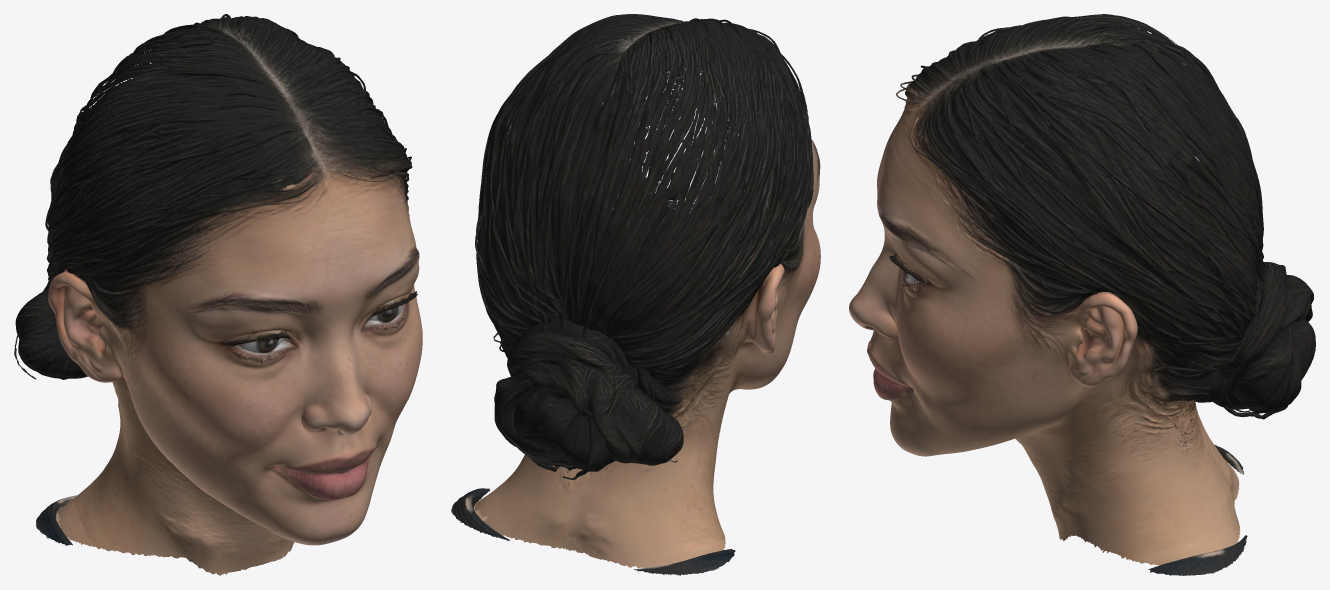
The model's file is skin_f_2k.glb.
3 views of the same model, side by side, from view 1: azimuth 30°, elevation 25°; view 2: azimuth 150°, elevation 25°; view 3: azimuth 270°, elevation 25° (orthographic). The views are drawn at different scales.
Parts seen in each view (by area): view 1: Skin; view 2: Skin; view 3: Skin.
Boxes of the visible parts, x1=… form: Skin: x1=14, y1=14, x2=422, y2=575; Skin: x1=451, y1=14, x2=820, y2=575; Skin: x1=849, y1=14, x2=1315, y2=575.
Bounding box in the file's own units: 0.1721 × 0.2681 × 0.229.
Materials: 1 (1 with a texture image).
